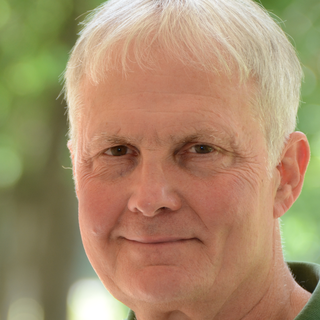eye: (174, 136, 230, 162), (96, 141, 143, 165)
